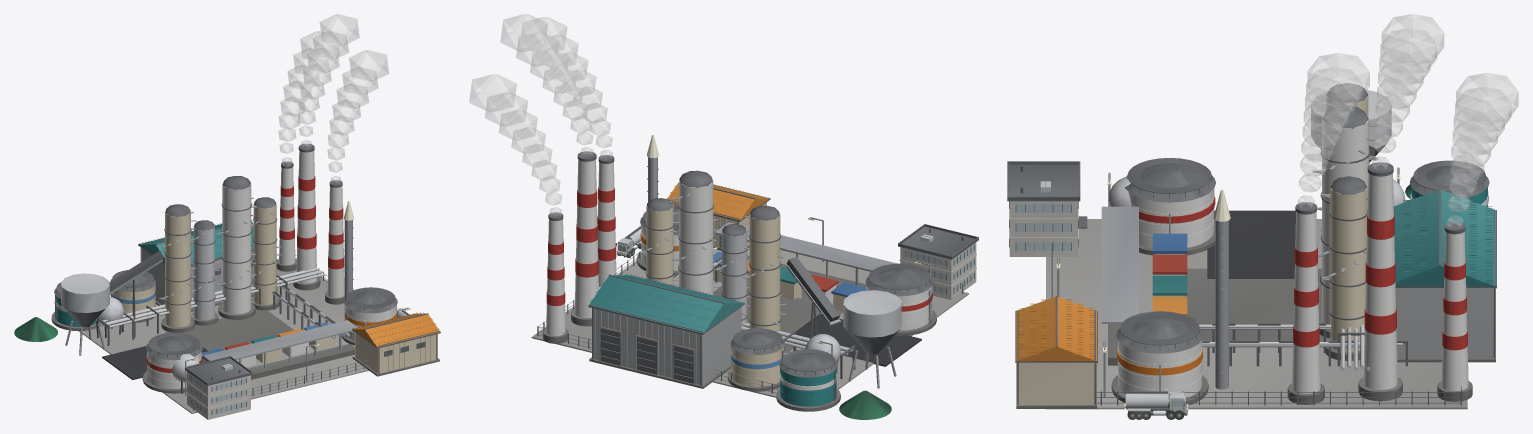
Rendered from Refinery_P3.fbx.
The picture shows the model from 3 angles, left to right: view 1: azimuth 30°, elevation 25°; view 2: azimuth 150°, elevation 25°; view 3: azimuth 270°, elevation 25°; orthographic projection. The views are drawn at different scales.
Visible parts, largest first — view 1: Refinery.Pad, Refinery.Col2, Refinery.Shed, Refinery.Col0, Refinery.Office, Refinery.Smoke0, Refinery.Smoke1, Refinery.Bay, Refinery.Smoke2, Refinery.Col3, Refinery.Stack0, Refinery.Col1 (+17 smaller); view 2: Refinery.Hall, Refinery.Pad, Refinery.Smoke2, Refinery.Smoke0, Refinery.Col2, Refinery.Col0, Refinery.Office, Refinery.Stack0, Refinery.Smoke1, Refinery.Tank1, Refinery.Intake, Refinery.Tank0 (+16 smaller); view 3: Refinery.Pad, Refinery.Hall, Refinery.Shed, Refinery.Stack0, Refinery.Tank3, Refinery.Office, Refinery.Tank0, Refinery.Col3, Refinery.Smoke0, Refinery.Smoke1, Refinery.Smoke2, Refinery.Stack1 (+14 smaller).
Boxes of the visible parts, bbox=[...] form: Refinery.Pad: bbox=[79, 268, 368, 413]; Refinery.Col2: bbox=[216, 176, 256, 319]; Refinery.Shed: bbox=[352, 312, 440, 376]; Refinery.Col0: bbox=[159, 204, 196, 332]; Refinery.Office: bbox=[185, 356, 252, 419]; Refinery.Smoke0: bbox=[298, 14, 359, 147]; Refinery.Smoke1: bbox=[327, 50, 388, 183]; Refinery.Bay: bbox=[203, 320, 366, 379]; Refinery.Smoke2: bbox=[278, 31, 339, 164]; Refinery.Col3: bbox=[251, 197, 281, 310]; Refinery.Stack0: bbox=[293, 143, 320, 290]; Refinery.Col1: bbox=[191, 220, 220, 325]; Refinery.Hall: bbox=[588, 273, 744, 388]; Refinery.Pad: bbox=[531, 249, 968, 397]; Refinery.Smoke2: bbox=[469, 74, 561, 216]; Refinery.Smoke0: bbox=[500, 14, 593, 156]; Refinery.Col2: bbox=[672, 170, 720, 294]; Refinery.Col0: bbox=[743, 205, 787, 351]; Refinery.Office: bbox=[898, 224, 978, 299]; Refinery.Stack0: bbox=[571, 151, 598, 326]; Refinery.Smoke1: bbox=[521, 17, 612, 159]; Refinery.Tank1: bbox=[776, 349, 840, 411]; Refinery.Intake: bbox=[843, 290, 901, 388]; Refinery.Tank0: bbox=[865, 263, 936, 335]; Refinery.Pad: bbox=[1046, 210, 1467, 409]; Refinery.Hall: bbox=[1393, 188, 1496, 362]; Refinery.Shed: bbox=[1015, 295, 1097, 408]; Refinery.Stack0: bbox=[1358, 162, 1402, 401]; Refinery.Tank3: bbox=[1111, 311, 1208, 405]; Refinery.Office: bbox=[1007, 161, 1087, 256]; Refinery.Tank0: bbox=[1124, 158, 1215, 255]; Refinery.Col3: bbox=[1321, 176, 1367, 360]; Refinery.Smoke0: bbox=[1372, 14, 1443, 169]; Refinery.Smoke1: bbox=[1298, 53, 1369, 208]; Refinery.Smoke2: bbox=[1447, 73, 1518, 228]; Refinery.Stack1: bbox=[1287, 202, 1324, 404].
Bounding box in the file's own units: 10255 × 7366 × 8250.
